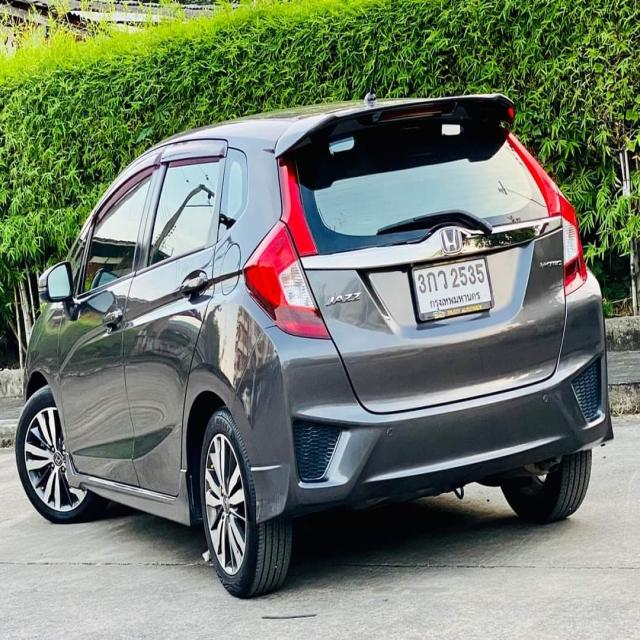license_plate: (407, 254, 496, 327)
